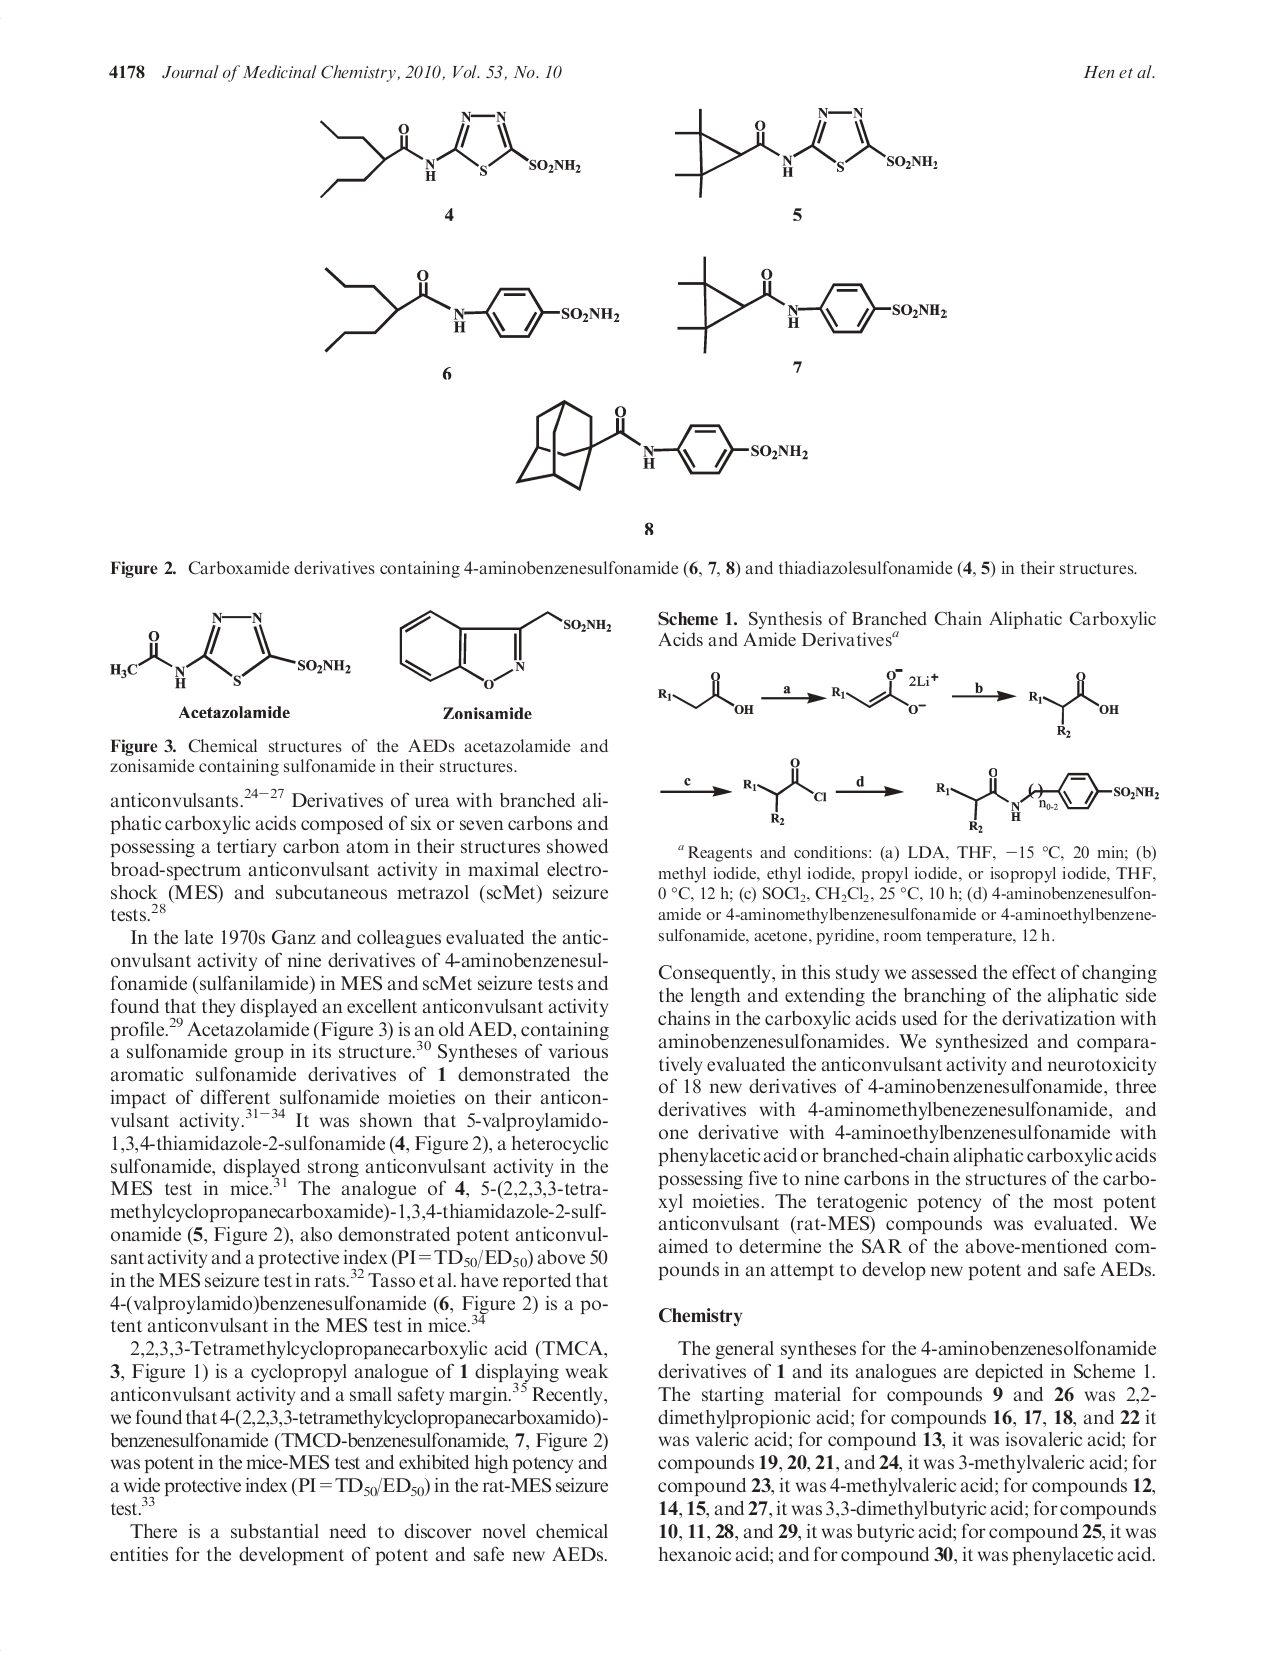exist_molecular: (313, 253, 628, 358), (664, 253, 964, 360), (513, 388, 809, 496), (672, 100, 944, 201), (309, 105, 582, 203), (108, 598, 358, 698), (398, 601, 621, 692), (930, 767, 1164, 834), (1023, 669, 1132, 741), (654, 664, 754, 729), (832, 664, 940, 723), (743, 753, 827, 825)
